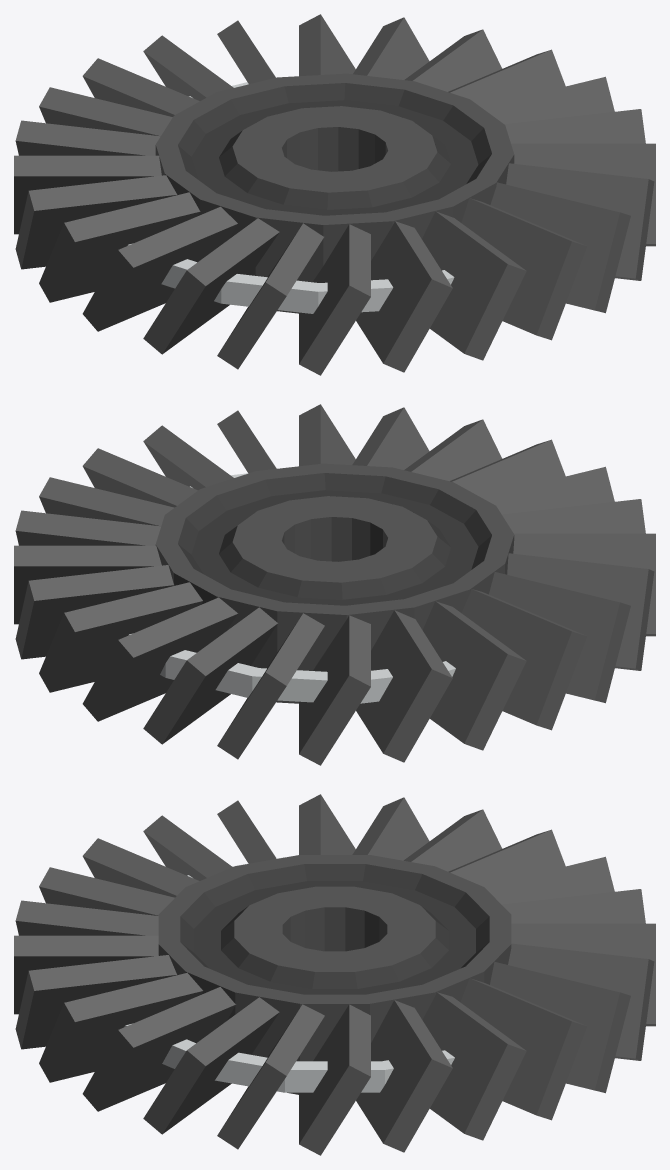
Rendered from rotor_steel.obj.
The picture shows the model from 3 angles, top to bottom: view 1: azimuth 30°, elevation 25°; view 2: azimuth 150°, elevation 25°; view 3: azimuth 270°, elevation 25°; orthographic projection.
Visible parts, largest first — view 1: 3, 2, 1, g, f, h, c, a, q, e, r, i (+16 smaller); view 2: 3, 2, 1, s, r, t, x, b, a, w, j, u (+16 smaller); view 3: 3, 2, 1, k, j, l, p, q, b, o, f, m (+16 smaller).
Part boxes in pixels (bbox=[...]): 3: bbox=[178, 83, 491, 215]; 2: bbox=[155, 73, 514, 313]; 1: bbox=[232, 106, 437, 192]; g: bbox=[422, 211, 526, 360]; f: bbox=[461, 198, 587, 340]; h: bbox=[356, 221, 452, 372]; c: bbox=[82, 206, 237, 331]; a: bbox=[39, 192, 200, 302]; q: bbox=[490, 182, 630, 313]; e: bbox=[143, 218, 279, 354]; r: bbox=[15, 175, 177, 269]; i: bbox=[299, 224, 370, 375]; 3: bbox=[178, 473, 491, 605]; 2: bbox=[155, 463, 514, 703]; 1: bbox=[232, 496, 437, 582]; s: bbox=[422, 601, 526, 750]; r: bbox=[461, 589, 587, 730]; t: bbox=[356, 610, 452, 762]; x: bbox=[82, 597, 238, 721]; b: bbox=[39, 582, 202, 692]; a: bbox=[489, 572, 630, 703]; w: bbox=[143, 607, 277, 744]; j: bbox=[15, 565, 174, 659]; u: bbox=[299, 615, 370, 765]; 3: bbox=[180, 864, 489, 994]; 2: bbox=[158, 855, 511, 1094]; 1: bbox=[234, 886, 435, 971]; k: bbox=[422, 992, 526, 1140]; j: bbox=[460, 978, 587, 1120]; l: bbox=[356, 1000, 452, 1152]; p: bbox=[82, 987, 235, 1111]; q: bbox=[39, 972, 202, 1082]; b: bbox=[490, 961, 630, 1093]; o: bbox=[143, 997, 279, 1134]; f: bbox=[15, 955, 176, 1049]; m: bbox=[299, 1004, 370, 1155].
Bounding box in the file's own units: 1.59 × 0.25 × 1.59.
